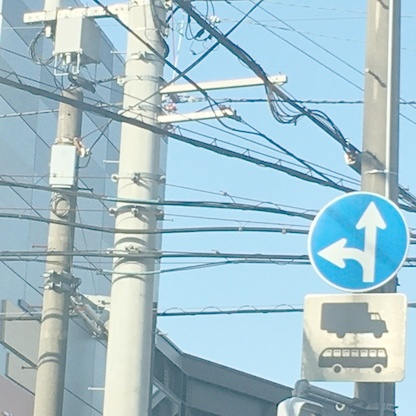Direction_sign: (304, 183, 416, 300)
